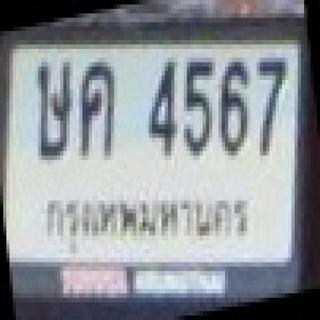A04: (77, 55, 117, 161)
A39: (31, 55, 78, 160)
N04: (141, 53, 182, 161)
N05: (180, 54, 217, 159)
N06: (219, 54, 254, 158)
N07: (254, 54, 288, 161)
P04: (44, 193, 255, 260)
